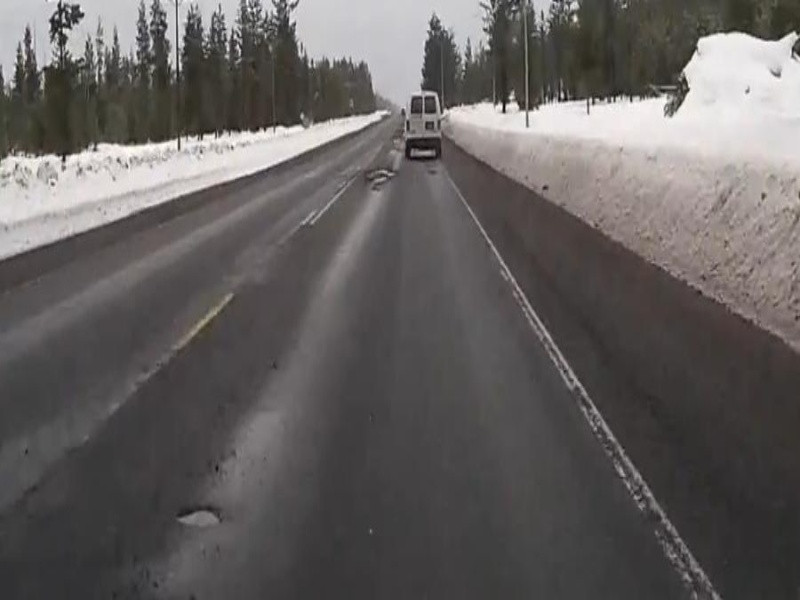pothole: (174, 503, 226, 529), (362, 165, 399, 184)
